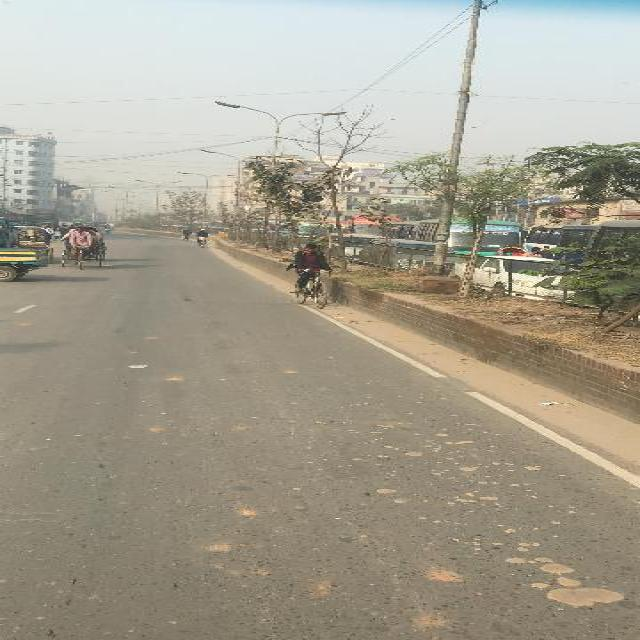bicycle: (292, 242, 334, 310), (197, 228, 208, 248), (104, 223, 109, 234)
bus: (579, 220, 637, 308), (414, 218, 521, 250), (554, 225, 598, 268), (523, 224, 558, 246), (378, 221, 418, 239), (294, 222, 332, 238)
car: (447, 255, 577, 299), (356, 239, 465, 271), (328, 234, 387, 258)
pickup: (0, 245, 48, 283)
rickshaw: (61, 228, 103, 268), (16, 225, 48, 248), (495, 244, 529, 256), (72, 222, 81, 226)
